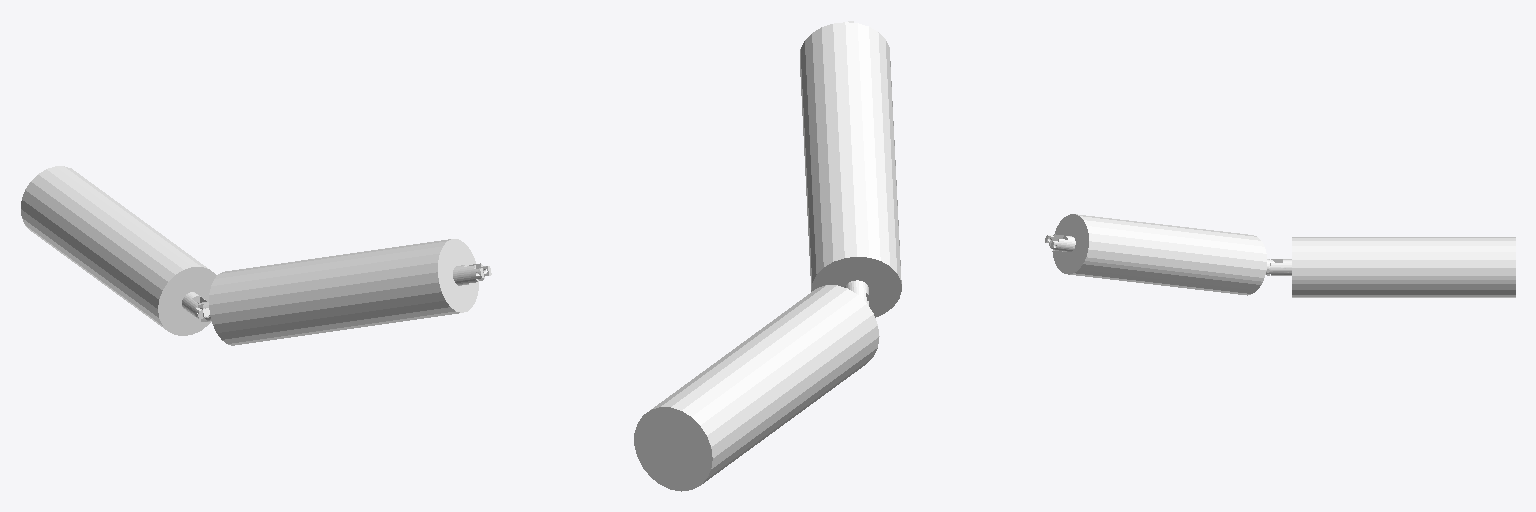
URDF robot description (Robot):
<?xml version="1.0" encoding="utf-8"?>
<!-- This URDF was automatically created by SolidWorks to URDF Exporter! Originally created by [author] ([email redacted]) 
     Commit Version: 1.6.0-4-g7f85cfe  Build Version: 1.6.7995.38578
     For more information, please see http://wiki.ros.org/sw_urdf_exporter -->
<robot
  name="Robot">
  <link
    name="base_link">
    <inertial>
      <origin
        xyz="5.51829554129647E-12 -1.92333779897319E-11 0.110518251024487"
        rpy="0 0 0" />
      <mass
        value="0.624741189613739" />
      <inertia
        ixx="0.00264900661497622"
        ixy="-4.77894812235539E-15"
        ixz="-8.33462393002094E-14"
        iyy="0.00264903402219447"
        iyz="1.27464432797341E-13"
        izz="0.000280021902306363" />
    </inertial>
    <visual>
      <origin
        xyz="0 0 0"
        rpy="0 0 0" />
      <geometry>
        <mesh
          filename="package://rviz2_shape/meshes/base_link.STL" />
      </geometry>
      <material
        name="">
        <color
          rgba="1 1 1 1" />
      </material>
    </visual>
    <collision>
      <origin
        xyz="0 0 0"
        rpy="0 0 0" />
      <geometry>
        <mesh
          filename="package://rviz2_shape/meshes/base_link.STL" />
      </geometry>
    </collision>
  </link>
  <link
    name="Link1">
    <inertial>
      <origin
        xyz="-2.10426603802187E-18 -4.16333634234434E-17 -2.77555756156289E-17"
        rpy="0 0 0" />
      <mass
        value="0.000467327412287183" />
      <inertia
        ixx="5.73611761707357E-09"
        ixy="-2.98012138337077E-26"
        ixz="6.52250449855772E-26"
        iyy="5.73611761707357E-09"
        iyz="2.68833699079734E-24"
        izz="9.67358040957279E-09" />
    </inertial>
    <visual>
      <origin
        xyz="0 0 0"
        rpy="0 0 0" />
      <geometry>
        <mesh
          filename="package://rviz2_shape/meshes/Link1.STL" />
      </geometry>
      <material
        name="">
        <color
          rgba="1 1 1 1" />
      </material>
    </visual>
    <collision>
      <origin
        xyz="0 0 0"
        rpy="0 0 0" />
      <geometry>
        <mesh
          filename="package://rviz2_shape/meshes/Link1.STL" />
      </geometry>
    </collision>
  </link>
  <joint
    name="joint1"
    type="revolute">
    <origin
      xyz="0 -0.2435 0"
      rpy="1.1711 0 0" />
    <parent
      link="base_link" />
    <child
      link="Link1" />
    <axis
      xyz="1 0 0" />
    <limit
      lower="-1"
      upper="1"
      effort="0"
      velocity="10" />
  </joint>
  <link
    name="Link2">
    <inertial>
      <origin
        xyz="3.20287685262599E-11 -0.133500000031401 3.25114796195791E-11"
        rpy="0 0 0" />
      <mass
        value="0.62744703308605" />
      <inertia
        ixx="0.00264920679100832"
        ixy="1.35607210139874E-13"
        ixz="-2.57275754519948E-15"
        iyy="0.00028012789917579"
        iyz="-1.86840397754101E-13"
        izz="0.00264920679100226" />
    </inertial>
    <visual>
      <origin
        xyz="0 0 0"
        rpy="0 0 0" />
      <geometry>
        <mesh
          filename="package://rviz2_shape/meshes/Link2.STL" />
      </geometry>
      <material
        name="">
        <color
          rgba="1 1 1 1" />
      </material>
    </visual>
    <collision>
      <origin
        xyz="0 0 0"
        rpy="0 0 0" />
      <geometry>
        <mesh
          filename="package://rviz2_shape/meshes/Link2.STL" />
      </geometry>
    </collision>
  </link>
  <joint
    name="joint2"
    type="revolute">
    <origin
      xyz="0 0 0"
      rpy="-2.0956 0 -1.5708" />
    <parent
      link="Link1" />
    <child
      link="Link2" />
    <axis
      xyz="1 0 0" />
    <limit
      lower="-1"
      upper="1"
      effort="10"
      velocity="10" />
  </joint>
</robot>

--- Facts derived from the render (not from the file) ---
Views: 3 orthographic renders of the robot side by side, from view 1: azimuth 30°, elevation 25°; view 2: azimuth 150°, elevation 25°; view 3: azimuth 270°, elevation 25°.
Robot: Robot — 3 links, 2 joints (2 revolute); root link base_link; default pose: all joints at 0.
Visible links, largest first — view 1: Link2, base_link; view 2: Link2, base_link; view 3: base_link, Link2.
Link boxes in pixels (<box>): Link2: <box>198,239,491,345</box>; base_link: <box>21,166,216,335</box>; Link2: <box>800,21,901,317</box>; base_link: <box>634,285,879,491</box>; base_link: <box>1266,237,1515,297</box>; Link2: <box>1045,214,1274,295</box>.
Bounding box of the posed robot: 0.178 × 0.4635 × 0.1402 m (x, y, z).
Meshes: 3 distinct files referenced, 3 mesh visuals loaded (3 binary STL).